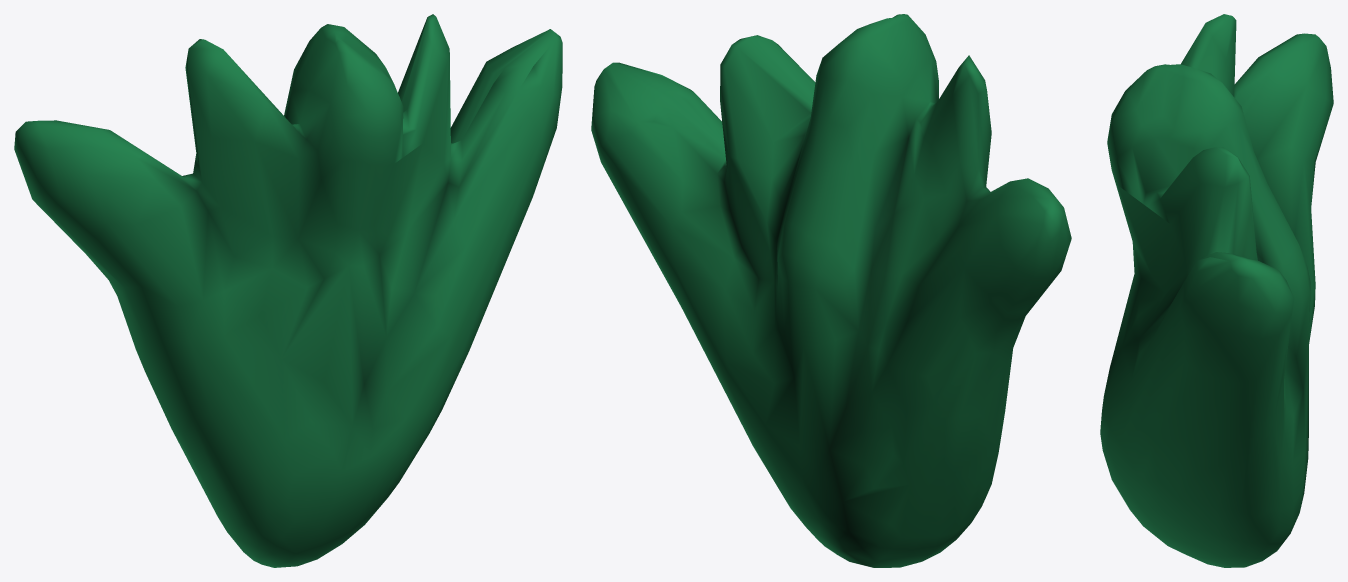
File: Fern.fbx
3 views of the same model, side by side, from view 1: azimuth 30°, elevation 25°; view 2: azimuth 150°, elevation 25°; view 3: azimuth 270°, elevation 25° (orthographic). The views are drawn at different scales.
Visible parts, largest first — view 1: FernLow; view 2: FernLow; view 3: FernLow.
Part boxes in pixels (bbox=[...]): FernLow: bbox=[14, 14, 562, 567]; FernLow: bbox=[591, 14, 1071, 567]; FernLow: bbox=[1100, 14, 1333, 567].
Bounding box in the file's own units: 99.16 × 100 × 41.68.
